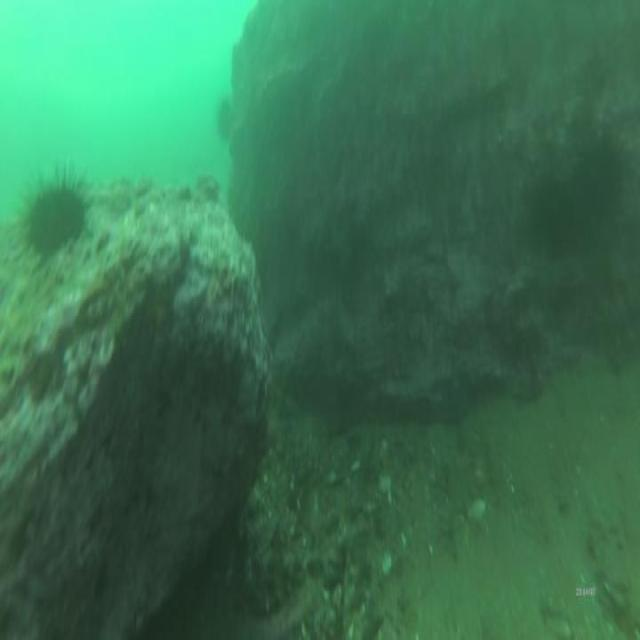echinus: (26, 179, 89, 259), (214, 90, 236, 150)
holothurian: (248, 552, 306, 614)
